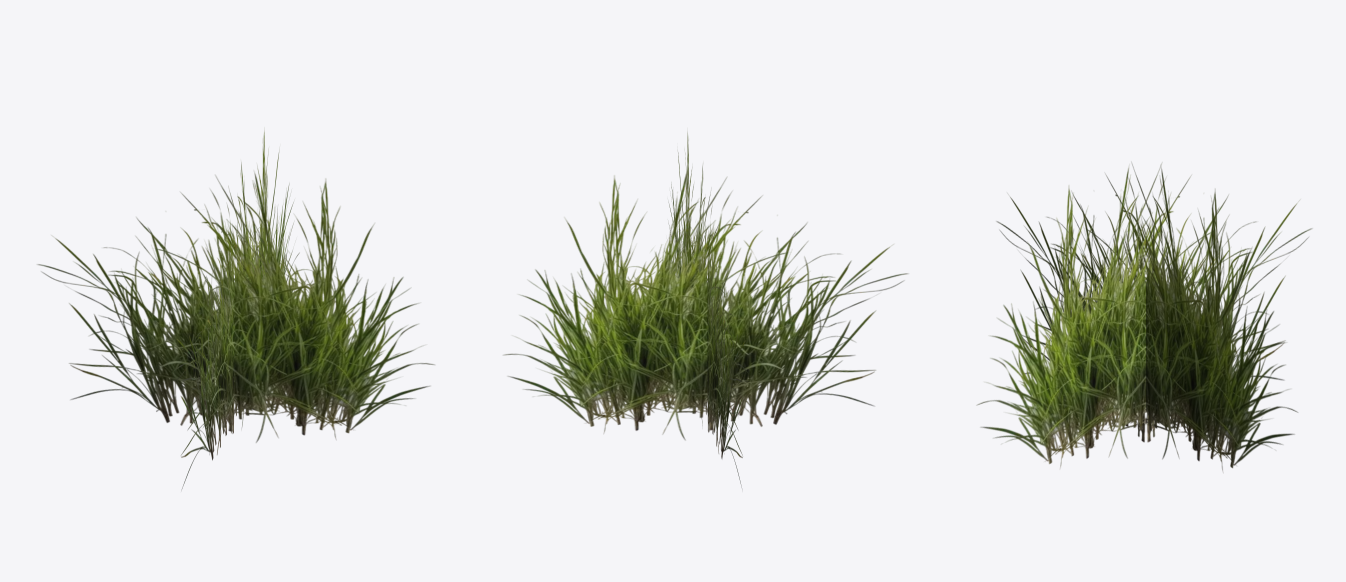
Rendered from forest-mountains-card-b.glb.
3 views of the same model, side by side, from view 1: azimuth 30°, elevation 25°; view 2: azimuth 150°, elevation 25°; view 3: azimuth 270°, elevation 25° (orthographic). The views are drawn at different scales.
Parts seen in each view (by area): view 1: Plane728; view 2: Plane728; view 3: Plane728.
Part boxes in pixels (x1,y1,x2,y2): Plane728: [37, 131, 434, 490]; Plane728: [503, 132, 908, 487]; Plane728: [976, 163, 1312, 470].
Bounding box in the file's own units: 6.28 × 7.4 × 6.28.
Materials: 1 (1 with a texture image).
